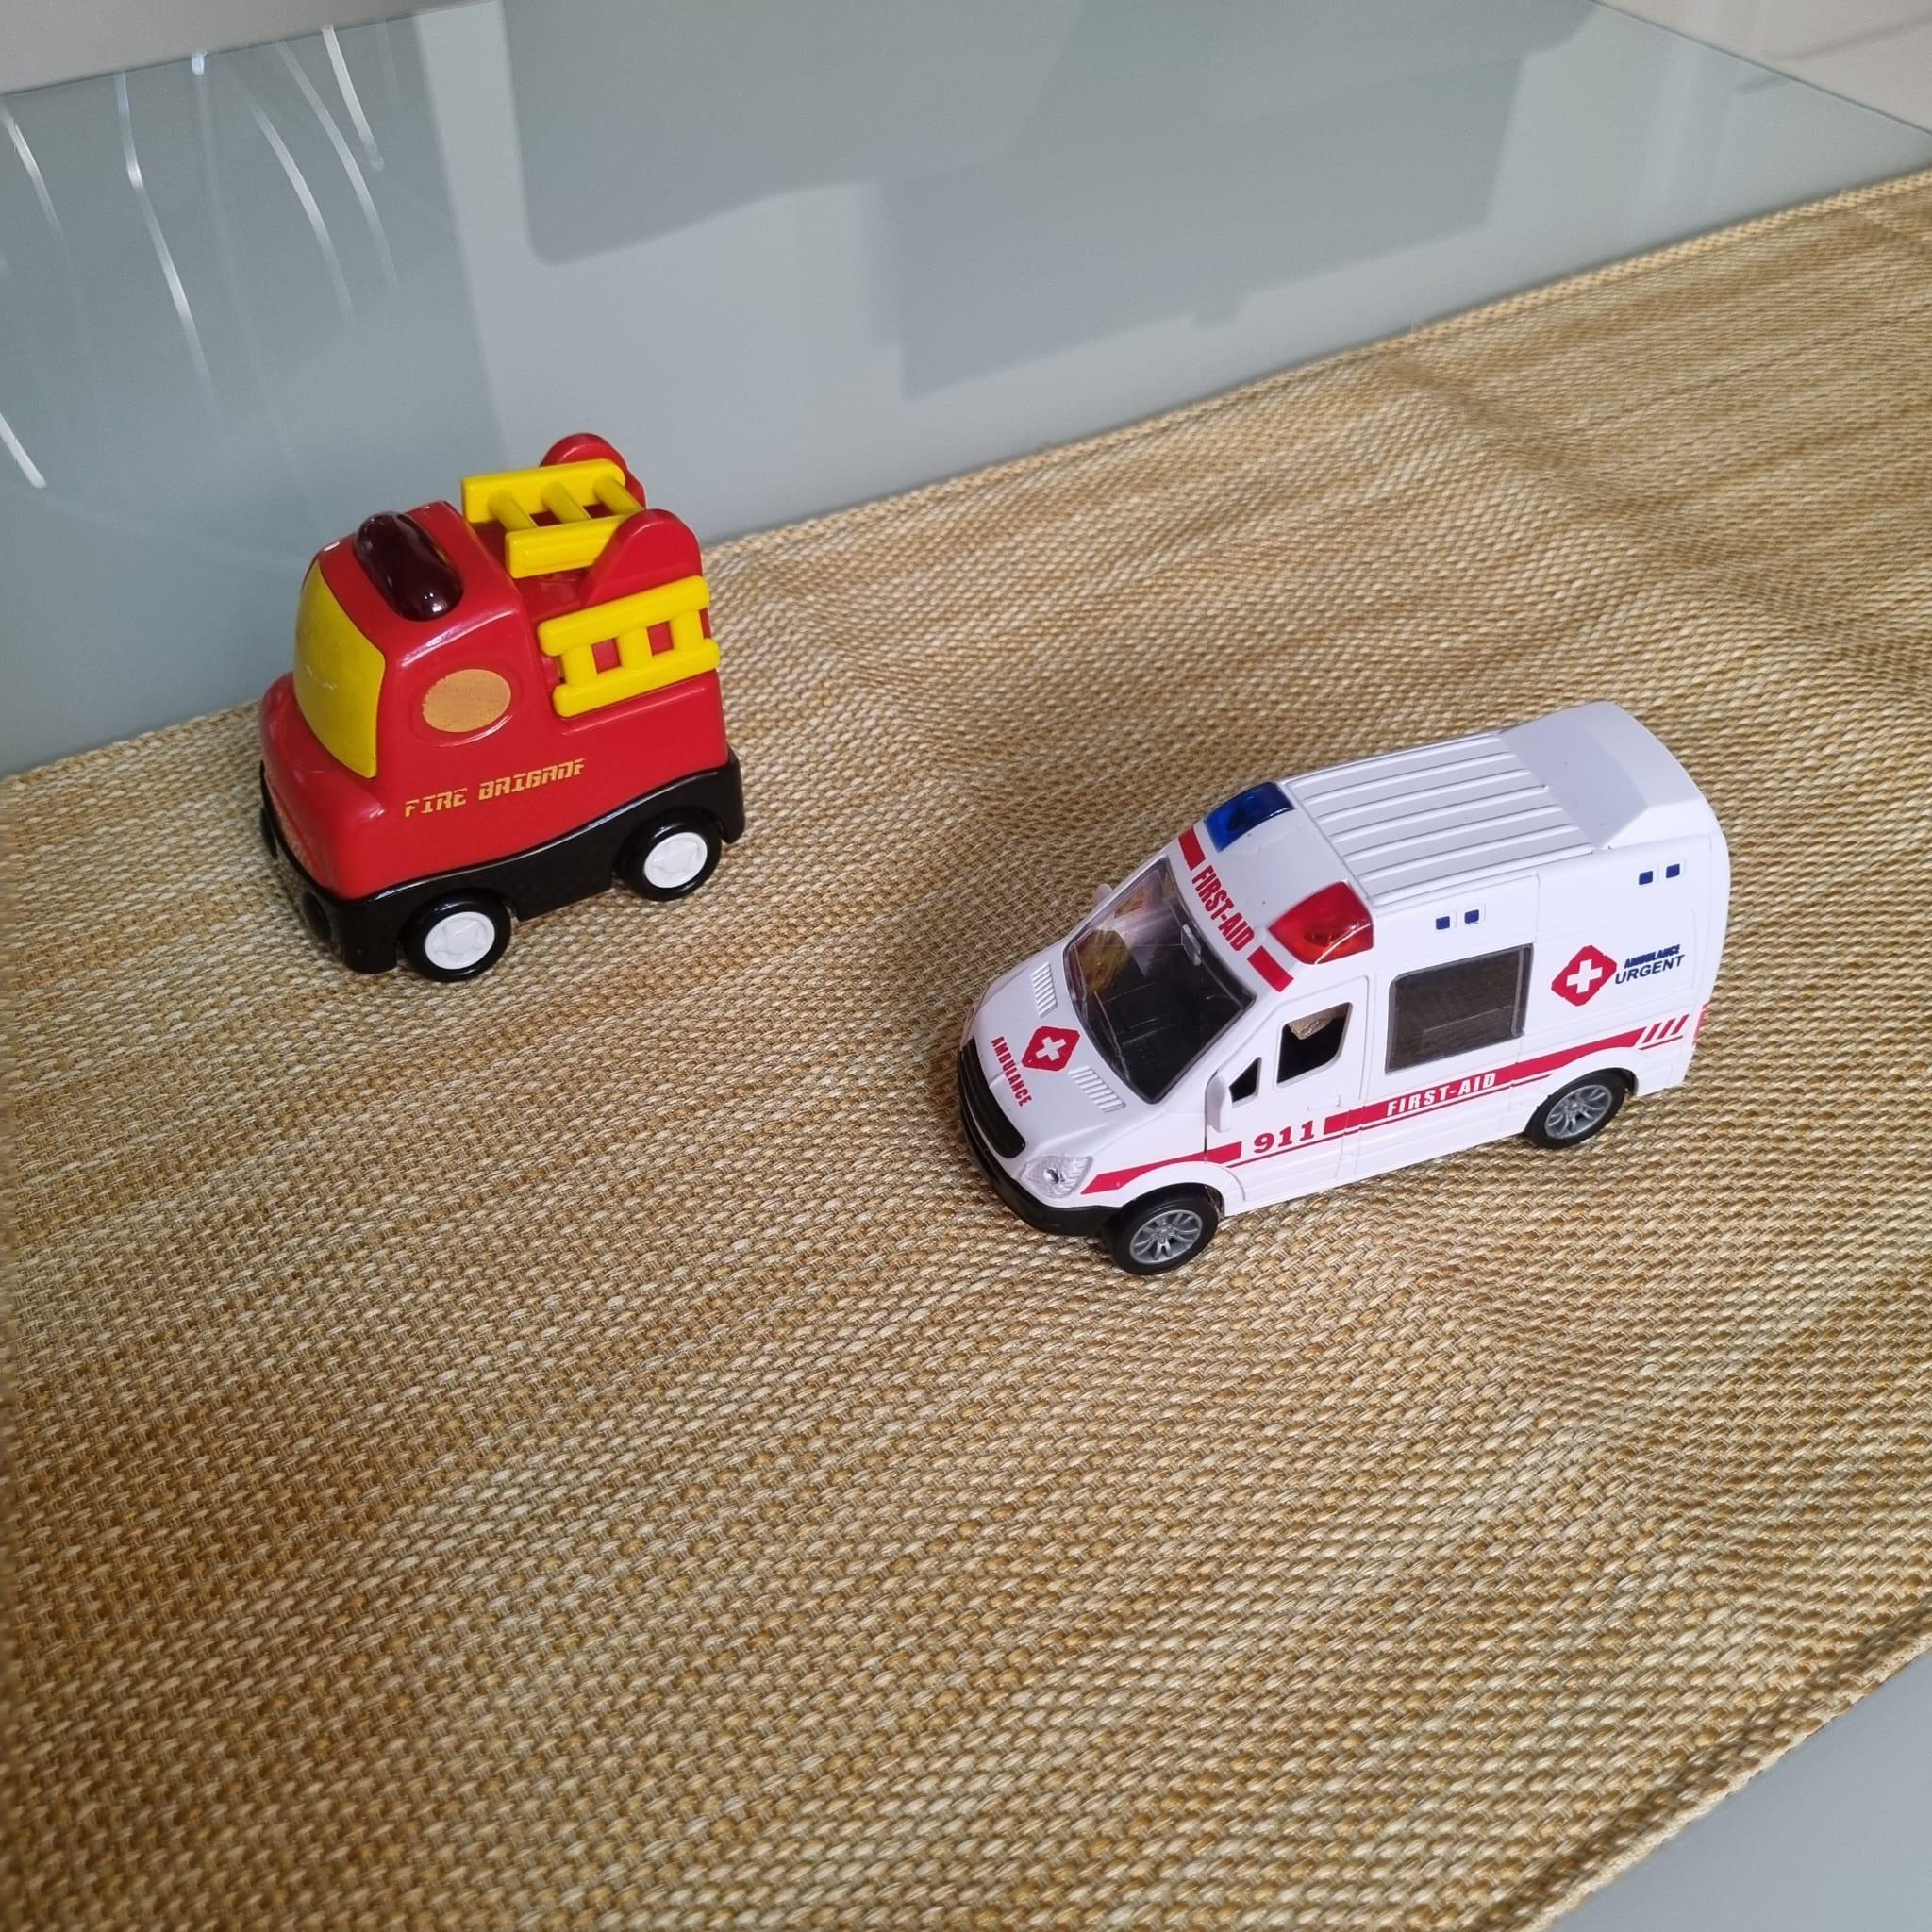ambulance_off: (957, 708, 1739, 1274)
firetruck_off: (260, 425, 747, 984)
